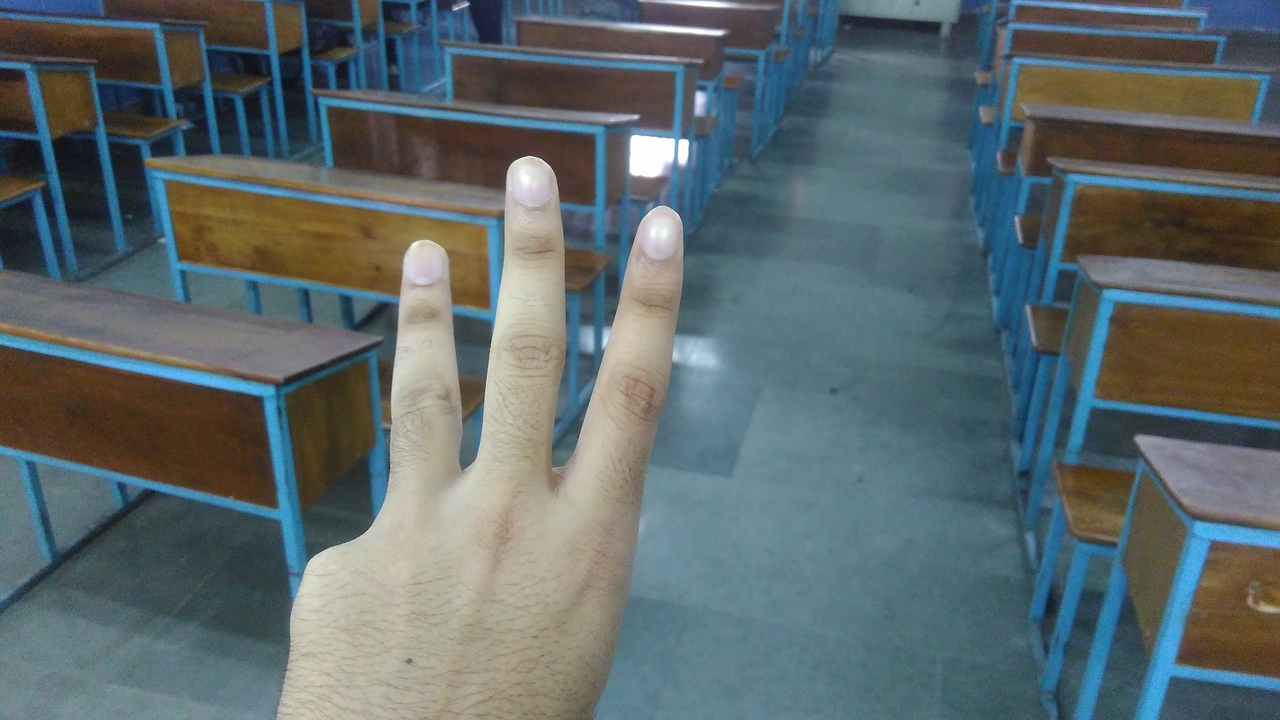fingertip: (496, 152, 564, 216), (628, 198, 692, 266), (388, 234, 450, 296)
